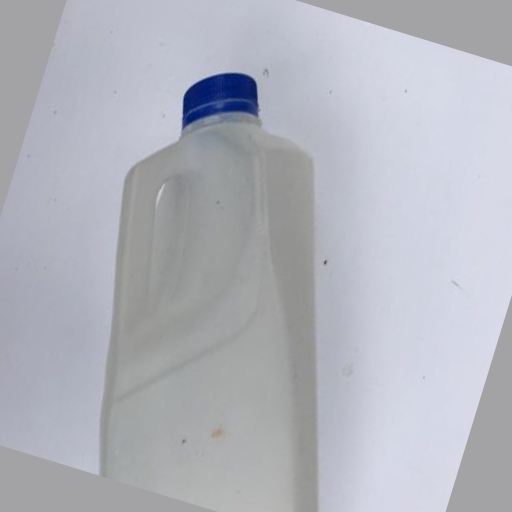Plastic_1: (98, 72, 317, 512)
